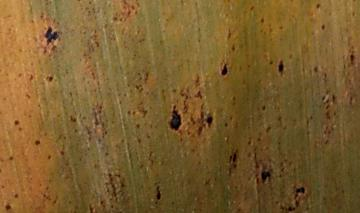tarspot: (170, 105, 182, 131), (108, 172, 118, 201), (44, 27, 60, 43), (260, 170, 271, 184), (92, 113, 100, 126), (155, 186, 162, 200), (221, 64, 229, 76), (277, 61, 285, 73), (225, 28, 232, 41), (296, 184, 305, 194), (206, 114, 213, 126), (192, 75, 201, 84), (196, 125, 204, 135), (93, 38, 101, 48), (349, 53, 355, 65), (195, 90, 203, 99), (69, 114, 77, 123), (286, 205, 296, 212), (230, 42, 236, 53), (319, 22, 326, 31), (141, 109, 148, 118), (190, 116, 197, 125), (47, 73, 53, 83), (293, 198, 300, 206), (265, 125, 272, 133), (98, 198, 105, 206), (331, 109, 338, 117), (27, 73, 34, 81), (275, 114, 283, 121), (348, 94, 353, 105), (200, 111, 206, 120), (323, 137, 329, 146), (169, 87, 178, 93), (228, 154, 233, 164), (326, 110, 331, 120), (59, 149, 66, 156), (111, 15, 118, 22), (50, 44, 57, 51), (33, 140, 41, 146), (12, 119, 20, 125), (313, 65, 319, 73), (320, 93, 326, 101), (268, 58, 274, 66), (259, 17, 265, 25), (119, 181, 125, 189), (126, 9, 132, 17), (261, 103, 266, 112), (89, 204, 94, 213), (315, 3, 321, 10), (5, 203, 11, 210), (246, 138, 252, 145), (256, 136, 262, 143), (231, 95, 237, 102), (277, 24, 284, 30), (279, 166, 286, 172), (279, 205, 285, 212), (308, 114, 314, 121), (233, 153, 237, 163), (332, 93, 336, 103), (186, 128, 191, 136), (103, 127, 108, 135), (46, 154, 52, 160), (184, 94, 190, 100), (7, 155, 14, 160), (223, 121, 228, 128), (12, 193, 19, 198), (134, 84, 141, 89), (121, 1, 129, 5), (325, 104, 331, 109), (135, 123, 141, 128), (137, 138, 142, 144), (126, 109, 131, 115), (250, 4, 256, 9), (38, 14, 45, 18), (232, 164, 237, 169), (110, 204, 115, 209), (43, 48, 48, 53), (132, 109, 136, 115)
